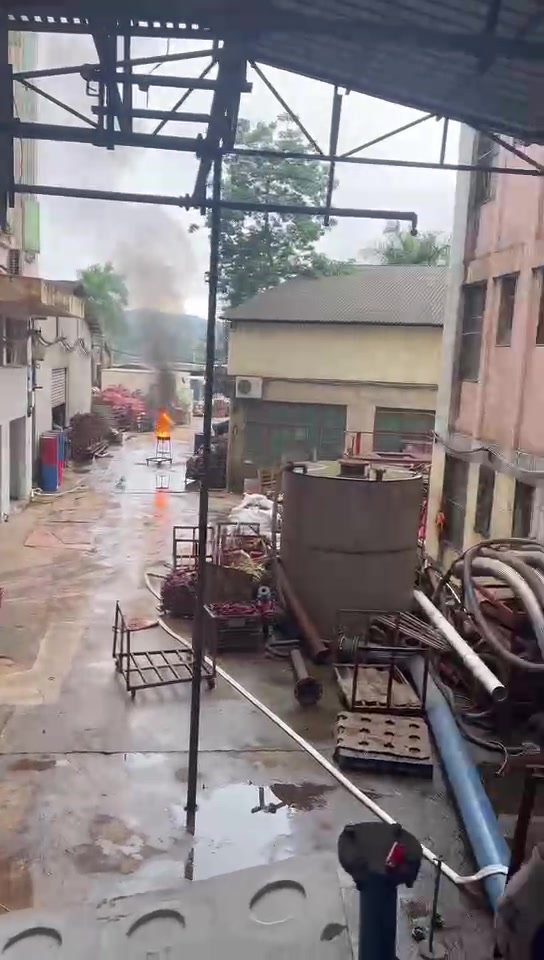fire: (153, 409, 171, 436)
